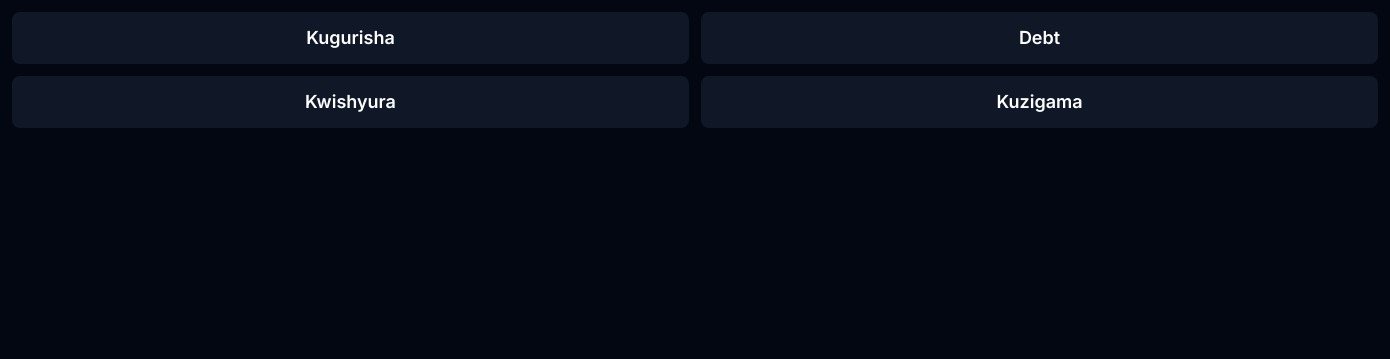
Test: RecordFlow — voice path (typed fallback) › shows the discard-only UNKNOWN card when nothing can be resolved
Click the button "Kugurisha": (350, 38) [12,12,689,64]
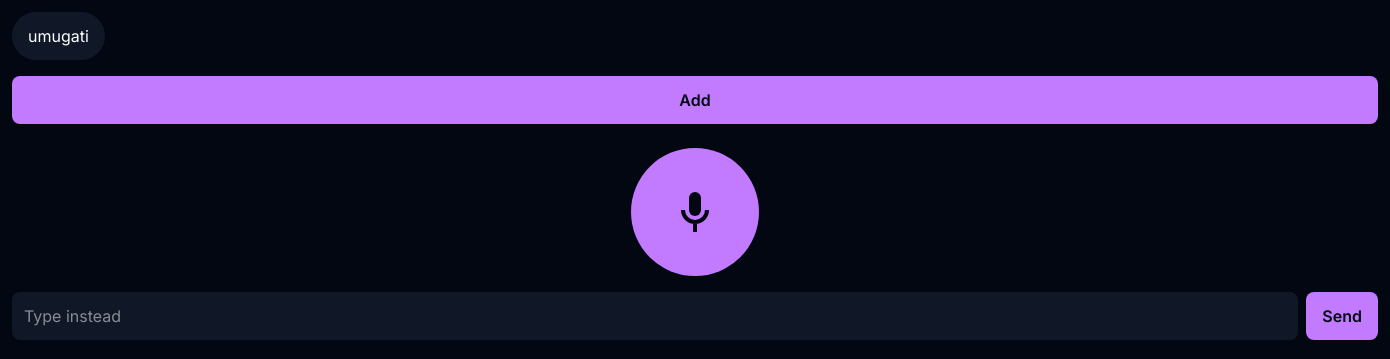
In the field with placeholder "Type instead": (655, 316) [12,292,1298,340], type "completely unrelated noise"
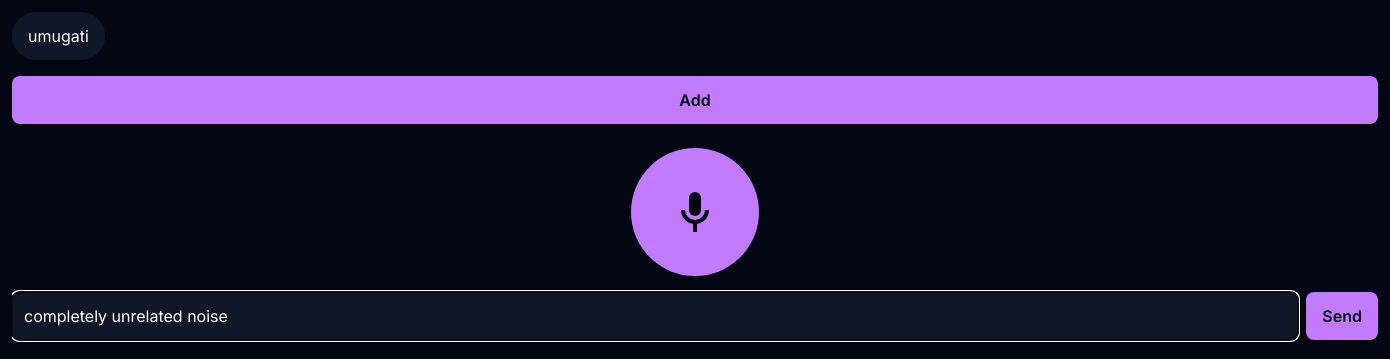
Click the button "Send": (1342, 316) [1306,292,1378,340]
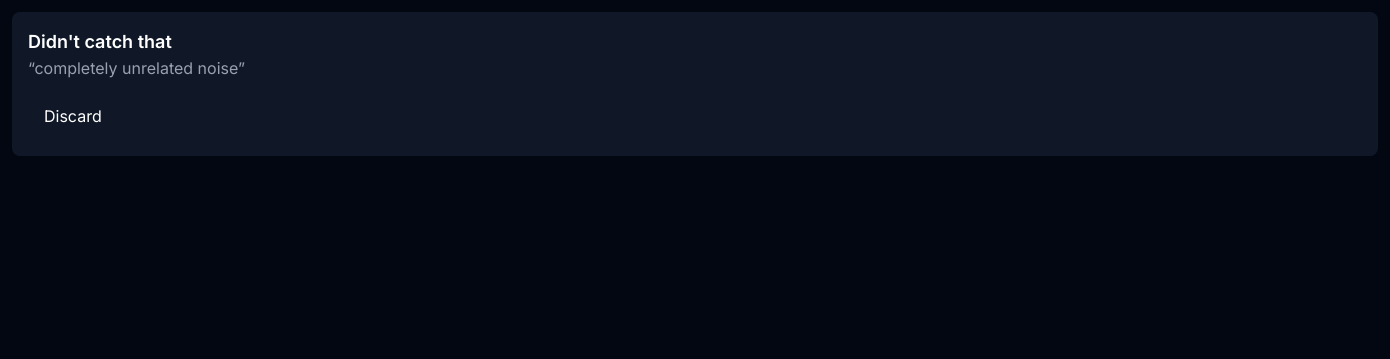
Check: the text "Didn't catch that" is shown, box [28,31,172,52]
